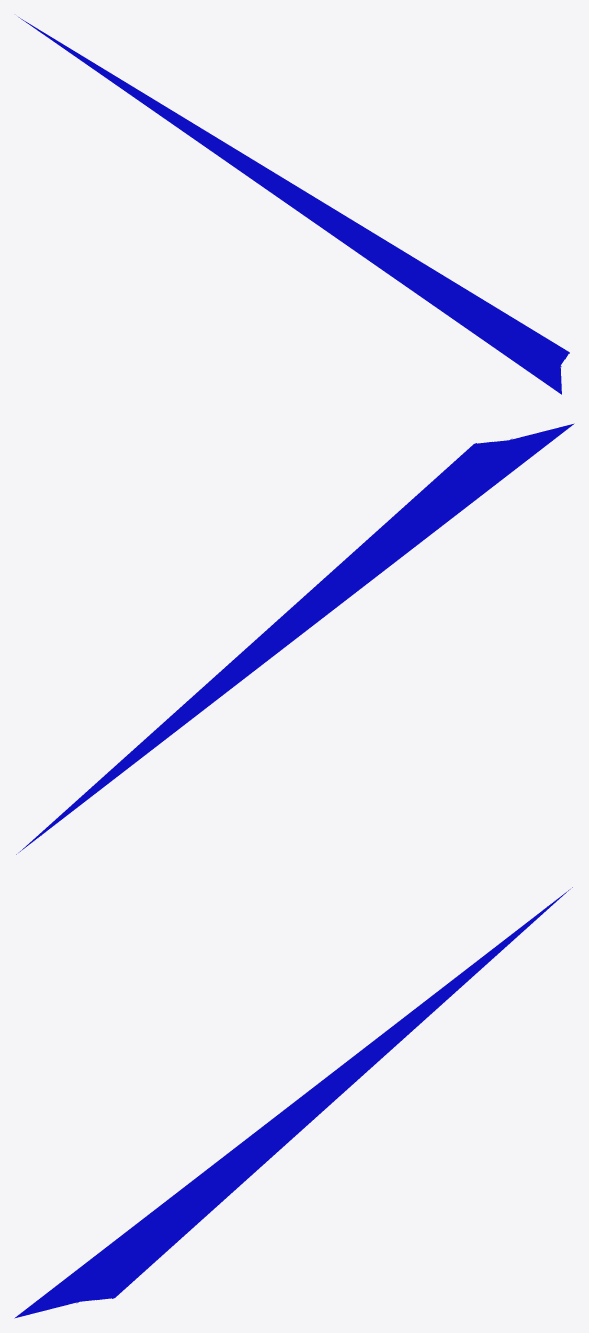
3 renders of one model, top to bottom at view 1: azimuth 30°, elevation 25°; view 2: azimuth 150°, elevation 25°; view 3: azimuth 330°, elevation 25°, orthographic. The views are drawn at different scales.
Bounding box in the file's own units: 1556 × 0 × 10146.
